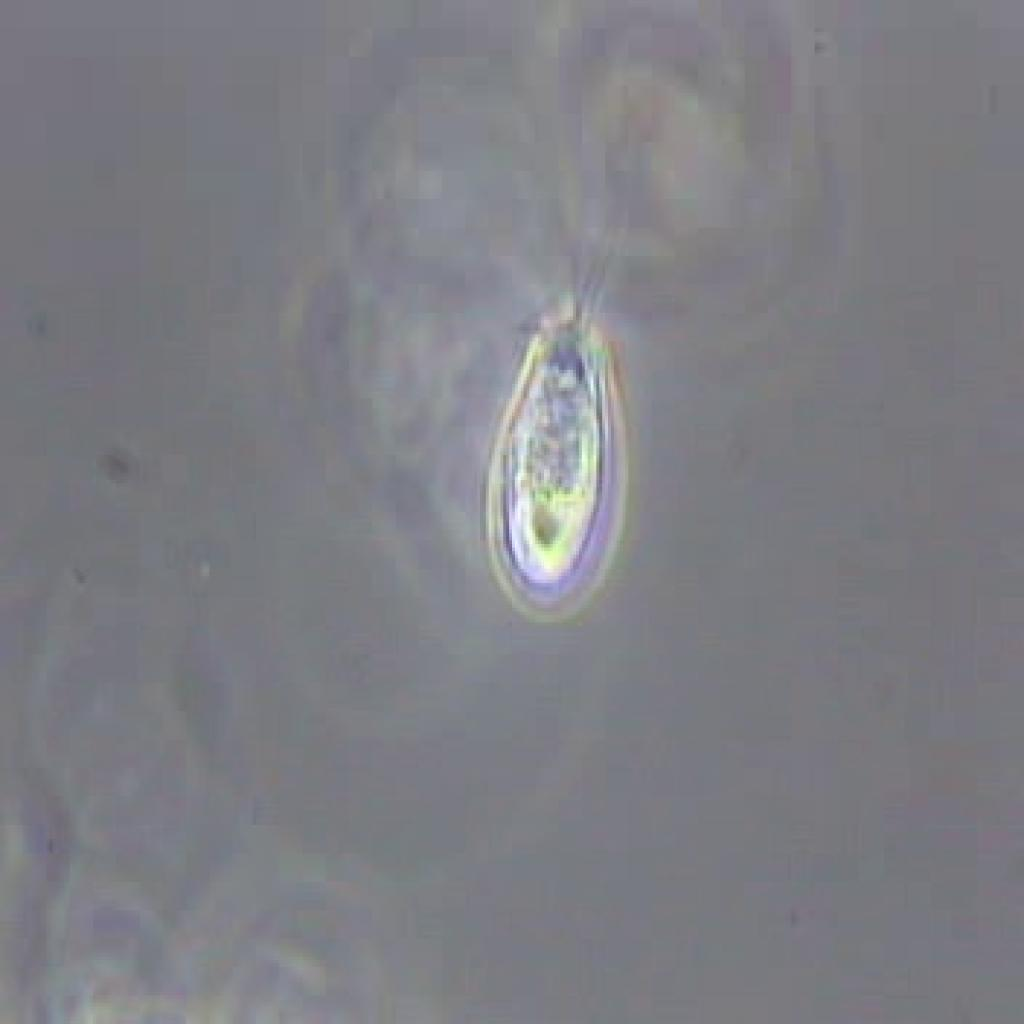Euglypha: (471, 178, 652, 647)
